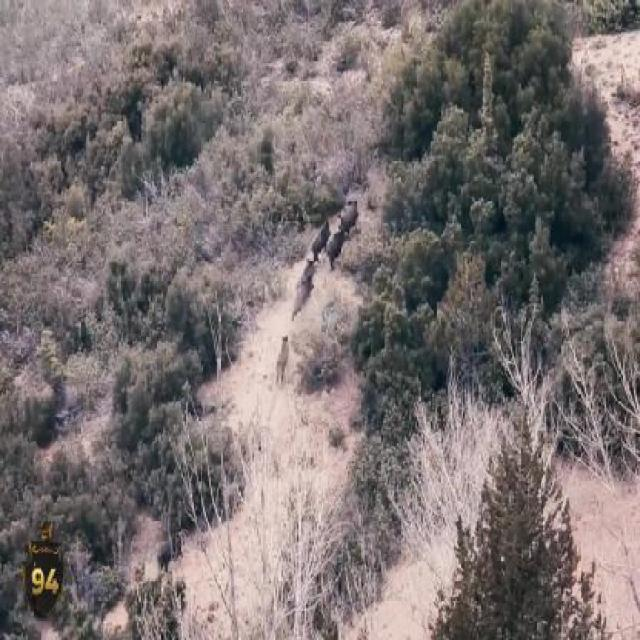Boar: (272, 328, 296, 389), (318, 221, 347, 259), (297, 260, 320, 305), (314, 212, 328, 272), (338, 181, 359, 217)
